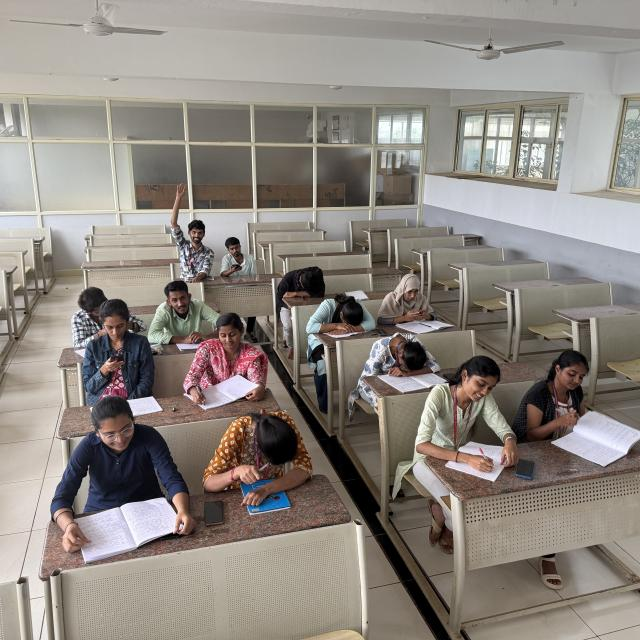Hand Rising: (168, 183, 216, 269)
Reading: (54, 399, 190, 544), (514, 343, 600, 443)
Sleeping: (361, 332, 442, 379), (308, 294, 377, 339), (272, 262, 332, 305)
Using Phone: (78, 299, 152, 391), (375, 276, 439, 320), (213, 234, 258, 277)
Writing: (414, 355, 510, 478), (183, 312, 265, 406)
